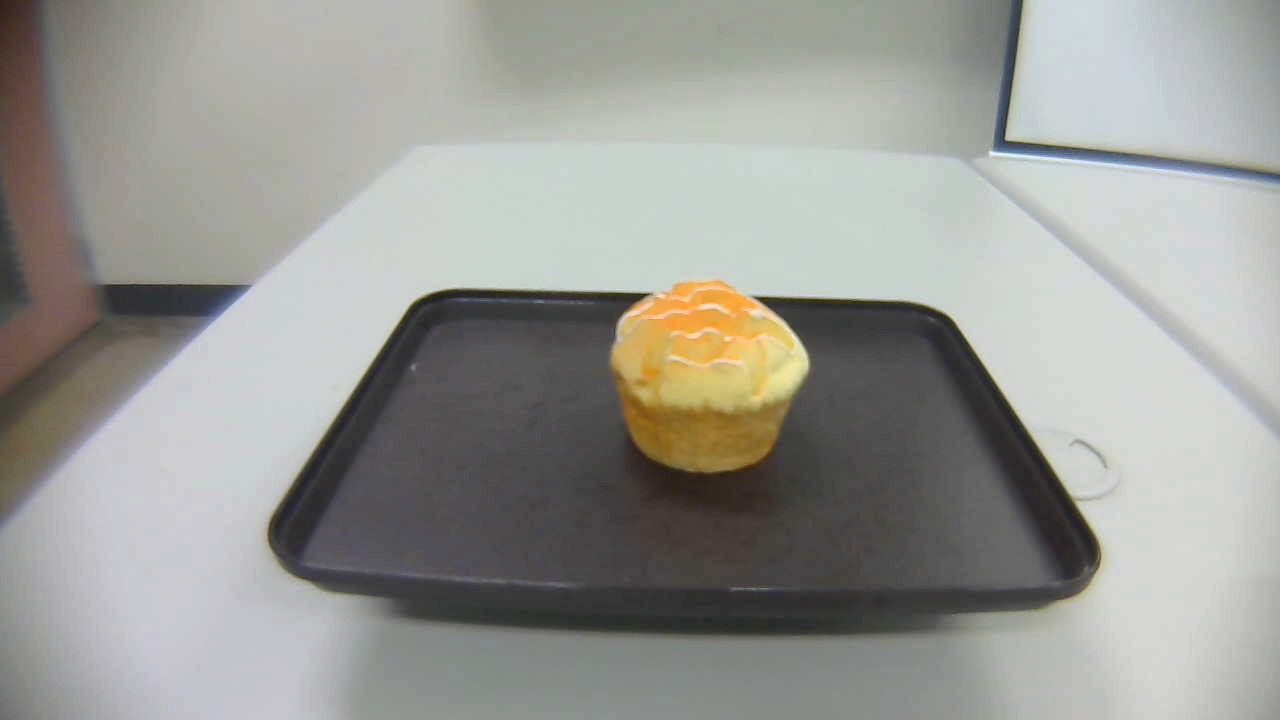cupcake: (607, 276, 813, 475)
